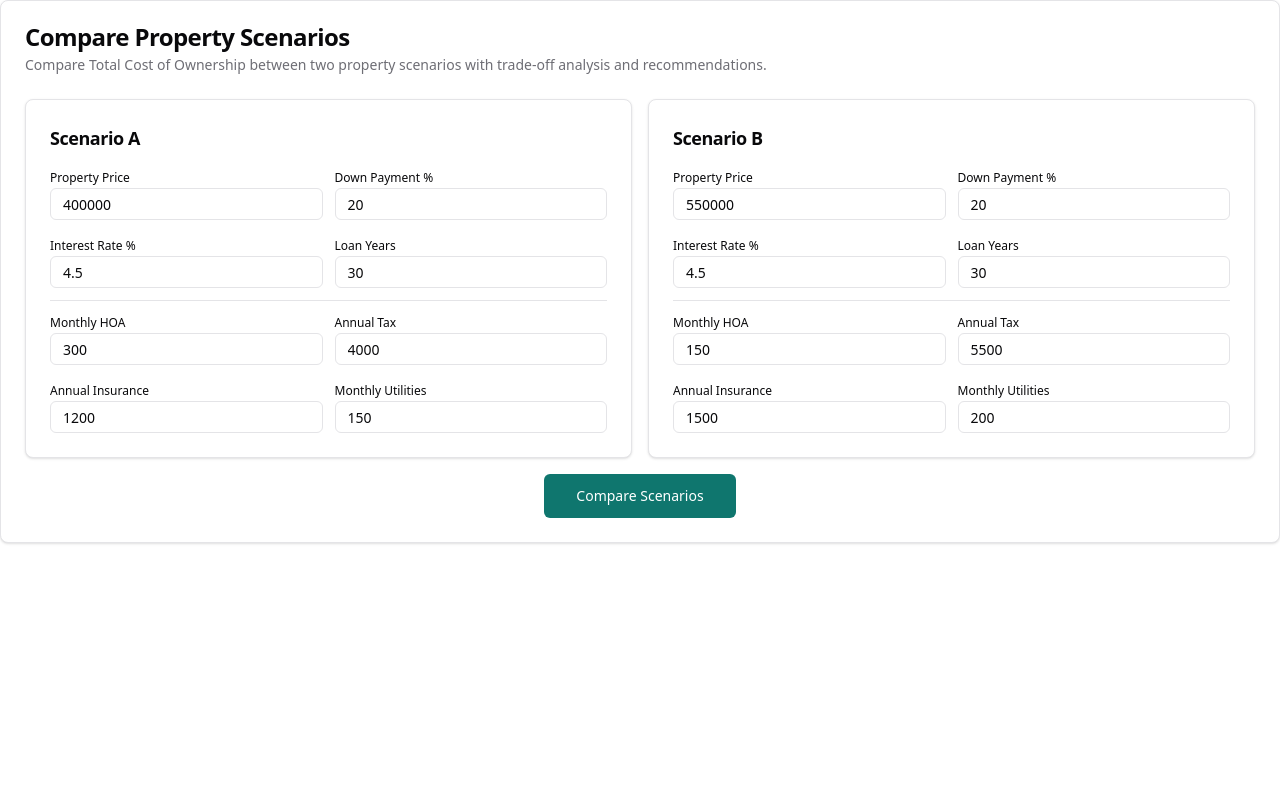
Test: TCOComparison › renders no projection chart when the scenario carries no projections
This screenshot has width=1280, height=789.
Click the button "Compare Scenarios": (640, 496) [544,474,736,518]
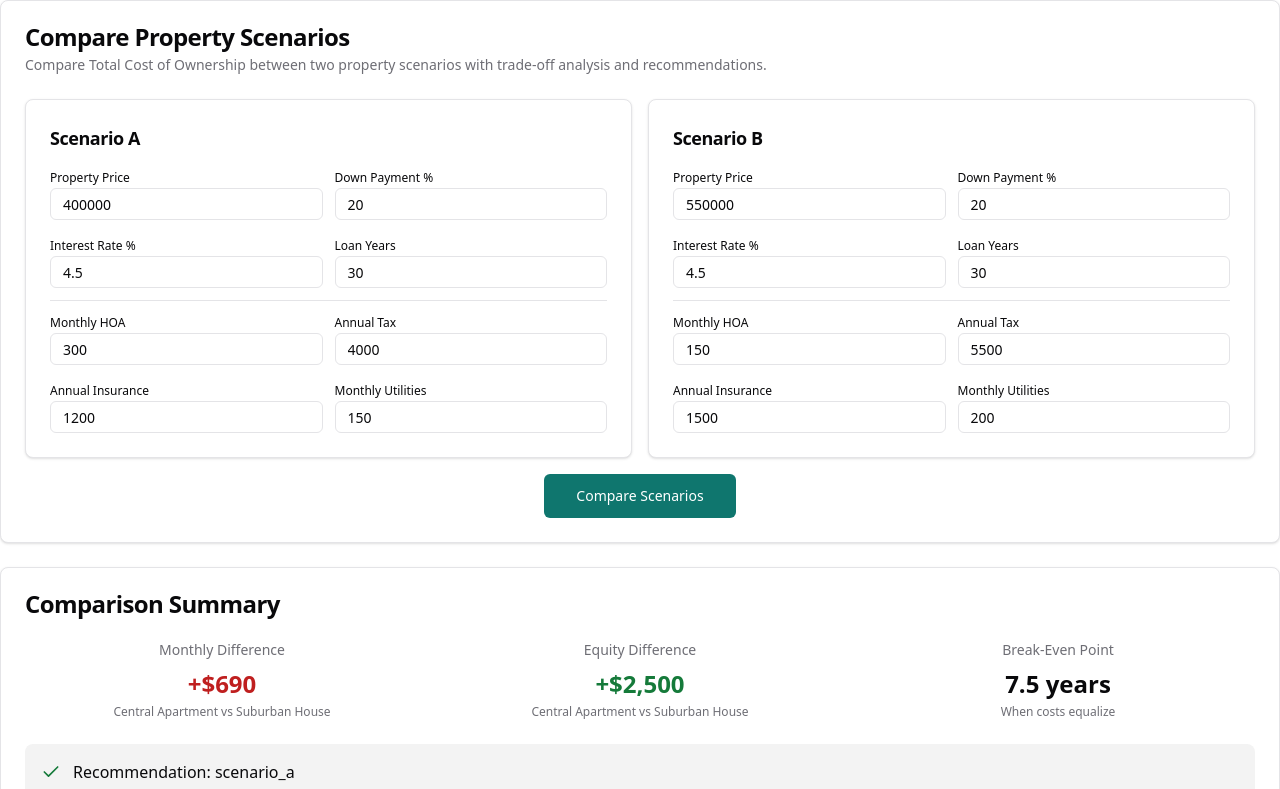
Expected: the heading "Comparison Summary" is shown, [25,587,280,620]
Expected: the text "+$690" is shown, [188,667,256,700]
